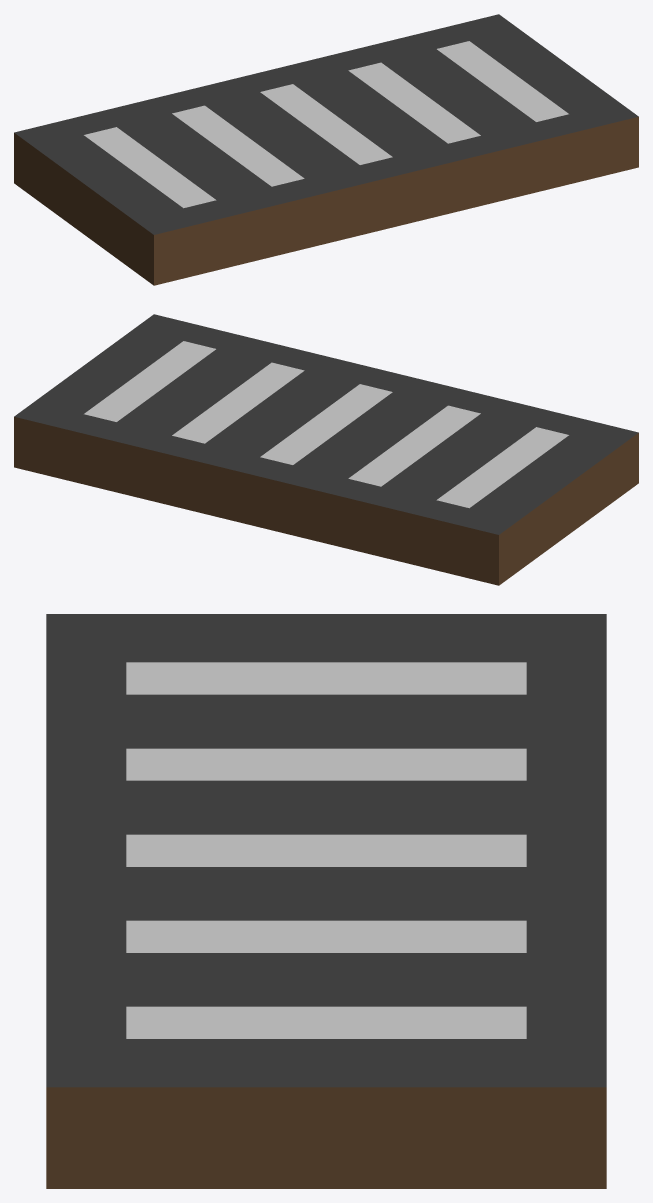
Rendered from cross_road_2.fbx.
3 views of the same model, one above another, from view 1: azimuth 30°, elevation 25°; view 2: azimuth 150°, elevation 25°; view 3: azimuth 270°, elevation 25° (orthographic). The views are drawn at different scales.
Visible parts, largest first — view 1: Cube.007; view 2: Cube.007; view 3: Cube.007.
Part boxes in pixels (box(x1,y1,x2,y2)): Cube.007: box(14, 14, 638, 285); Cube.007: box(14, 314, 638, 585); Cube.007: box(46, 614, 606, 1188).
Size of the model in its own units: 2000 by 200 by 1000.
Materials: 1 (1 with a texture image).
